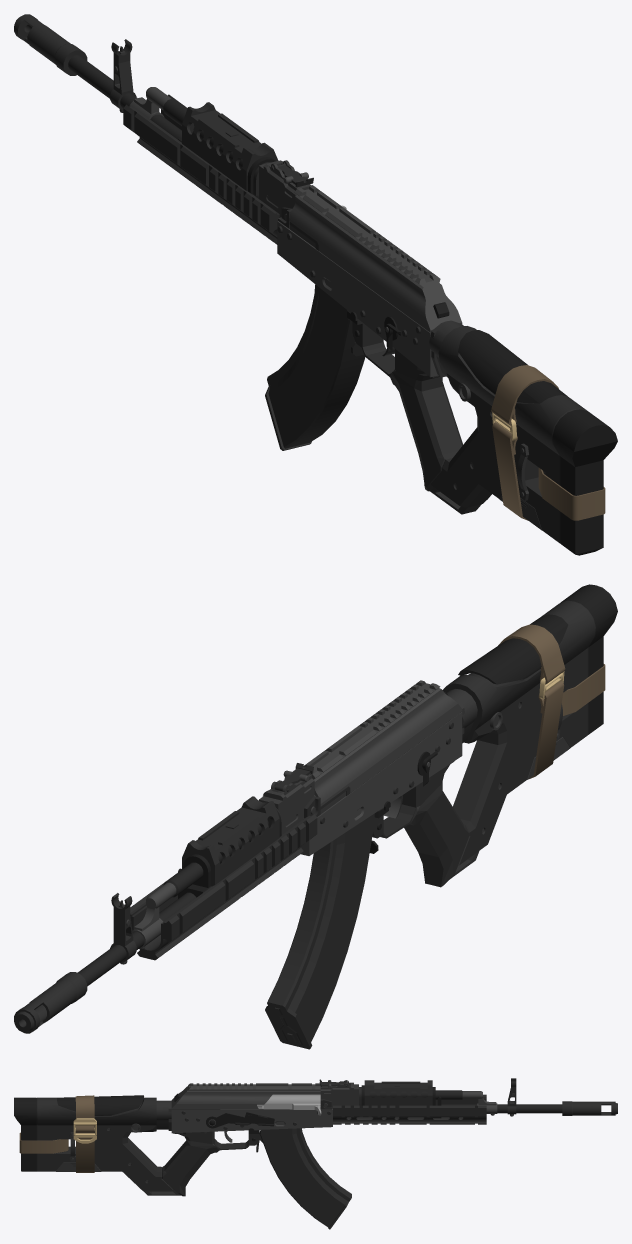
3 views of the same model, one above another, from view 1: azimuth 30°, elevation 25°; view 2: azimuth 150°, elevation 25°; view 3: azimuth 270°, elevation 25° (orthographic). The views are drawn at different scales.
Visible parts, largest first — view 1: 3DGeom~19, 3DGeom~11, 3DGeom~33, 3DGeom~23, 3DGeom~32, 3DGeom~30, 3DGeom~8, 3DGeom~10, 3DGeom~27, 3DGeom~38, 3DGeom~6, 3DGeom~29 (+6 smaller); view 2: 3DGeom~19, 3DGeom~11, 3DGeom~30, 3DGeom~32, 3DGeom~33, 3DGeom~8, 3DGeom~27, 3DGeom~10, 3DGeom~38, 3DGeom~23, 3DGeom~6, 3DGeom~29 (+7 smaller); view 3: 3DGeom~19, 3DGeom~11, 3DGeom~30, 3DGeom~32, 3DGeom~33, 3DGeom~8, 3DGeom~23, 3DGeom~27, 3DGeom~10, 3DGeom~6, 3DGeom~38, 3DGeom~40 (+11 smaller).
Part boxes in pixels (box(x1,y1,x2,y2)): 3DGeom~19: box(382, 326, 587, 543); 3DGeom~11: box(265, 284, 365, 450); 3DGeom~33: box(289, 197, 462, 332); 3DGeom~23: box(347, 310, 617, 555); 3DGeom~32: box(277, 221, 438, 377); 3DGeom~30: box(123, 94, 279, 244); 3DGeom~8: box(178, 102, 278, 195); 3DGeom~10: box(294, 185, 441, 289); 3DGeom~27: box(491, 365, 558, 520); 3DGeom~38: box(458, 330, 567, 403); 3DGeom~6: box(68, 55, 279, 217); 3DGeom~29: box(14, 14, 87, 75); 3DGeom~19: box(396, 600, 595, 887); 3DGeom~11: box(265, 813, 374, 1049); 3DGeom~30: box(130, 814, 317, 960); 3DGeom~32: box(301, 712, 462, 855); 3DGeom~33: box(314, 689, 462, 806); 3DGeom~8: box(182, 796, 280, 892); 3DGeom~27: box(498, 624, 565, 779); 3DGeom~10: box(303, 680, 441, 781); 3DGeom~38: box(458, 614, 568, 684); 3DGeom~23: box(369, 584, 617, 853); 3DGeom~6: box(77, 820, 268, 986); 3DGeom~29: box(14, 972, 87, 1033); 3DGeom~19: box(37, 1097, 219, 1196); 3DGeom~11: box(259, 1128, 351, 1229); 3DGeom~30: box(333, 1094, 486, 1124); 3DGeom~32: box(171, 1104, 332, 1133); 3DGeom~33: box(171, 1087, 320, 1109); 3DGeom~8: box(359, 1080, 432, 1105); 3DGeom~23: box(14, 1097, 259, 1171); 3DGeom~27: box(75, 1095, 94, 1172); 3DGeom~10: box(186, 1083, 320, 1091); 3DGeom~6: box(369, 1090, 562, 1113); 3DGeom~38: box(57, 1095, 143, 1115); 3DGeom~40: box(257, 1094, 321, 1115).
Size of the model in its own units: 12.33 by 175 by 46.83.
